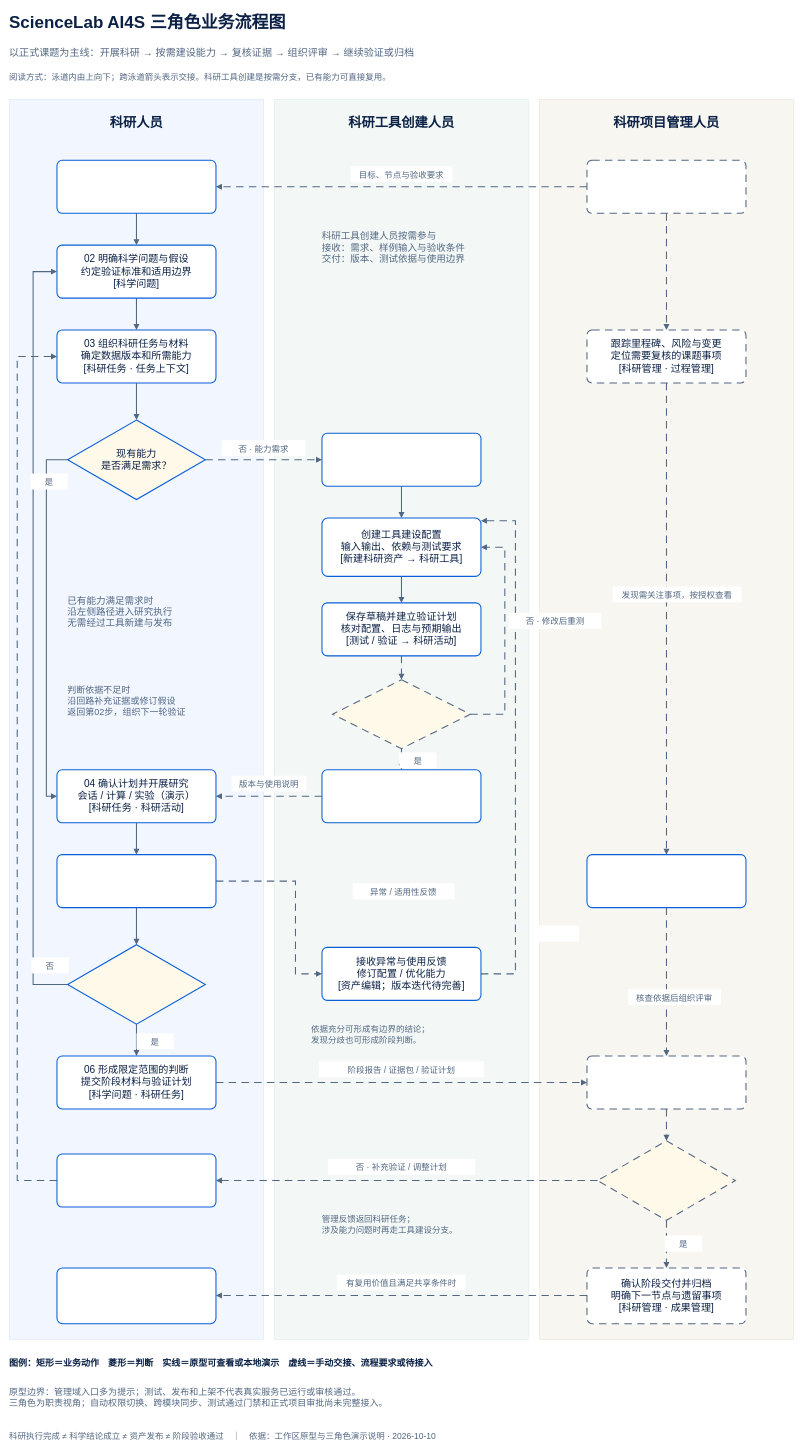
Some shapes in this 803 by 1454 pixel diagram are drawn without their labels. The centre of each missing label's shape, as x and y in pixels:
01 进入已有课题 核对目标与研究上下文 [科研工作台 → 课题空间]: (136,187)
05 检查产物与证据 核对来源、条件与局限 [产出视图 · 证据研判]: (136,881)
07 落实评审意见 补充材料 / 调整验证任务 [科研任务 · 科学问题]: (136,1180)
08 整理可复用科研资产 可选：保留来源与使用边界 [空间资产]: (136,1295)
发布可识别的工具版本 交付复用说明；上架按需 [空间资产 · 科研资产]: (401,796)
承接科研能力需求 检查复用 / 扩展 / 新建方案 [空间资产 · 科研资产]: (401,459)
明确项目目标与阶段要求 约定节点、职责及验收依据 [科研管理 · 立项管理]: (666,187)
本轮判断依据 是否充分？: (136,984)
测试与交付条件 是否满足？: (401,714)
满足阶段 交付要求？: (666,1180)
组织阶段评审 专家评证据；管理者评交付 [科研管理 / 任务评审]: (666,1082)
进入课题核查阶段依据 查看报告、证据与验证安排 [空间概览 · 科学问题 · 任务]: (666,881)
迭代完善: (555,933)
